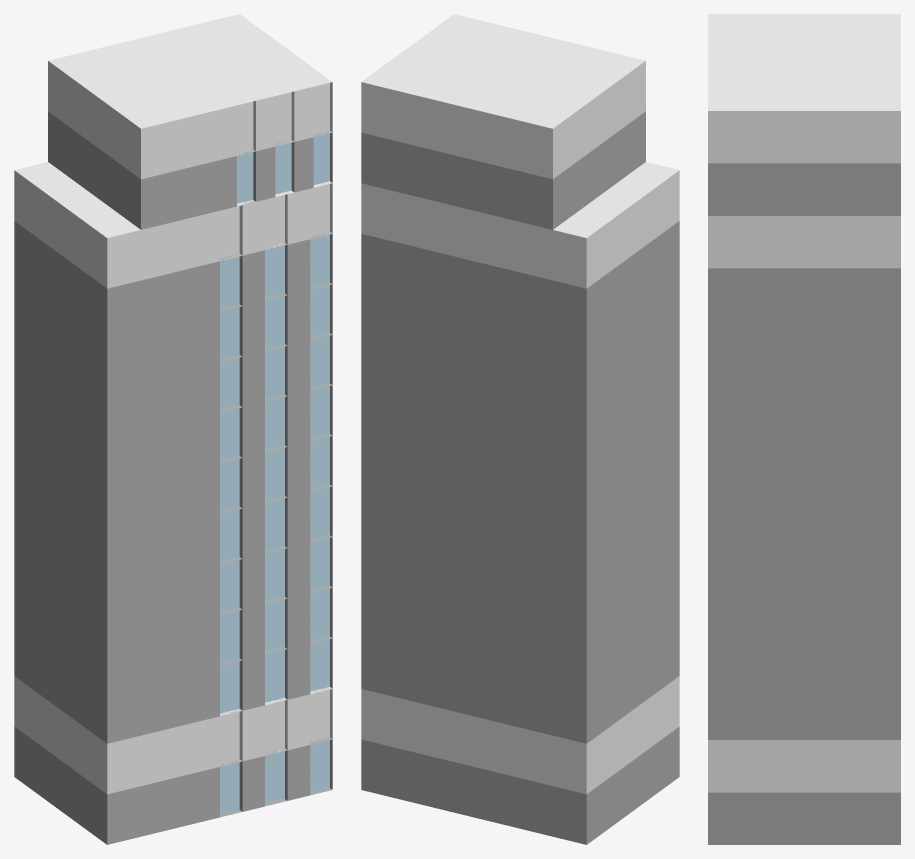
File: building01.glb
The picture shows the model from 3 angles, left to right: view 1: azimuth 30°, elevation 25°; view 2: azimuth 150°, elevation 25°; view 3: azimuth 270°, elevation 25°; orthographic projection. The views are drawn at different scales.
Visible parts, largest first — view 1: floor_5, floor_3.003, floor_1.001, floor_1, floor_1.002, floor_2.003, floor_2.002, floor_2, floor_1.003, floor_3.001, floor_2.001, floor_3.002 (+2 smaller); view 2: floor_5, floor_3.003, floor_1.002, floor_2.003, floor_2.002, floor_3.002, floor_1, floor_2, floor_2.001, floor_1.003, floor_3, floor_1.001 (+2 smaller); view 3: floor_5, floor_1.003, floor_2.003, floor_3.003, floor_4, floor_1.002, floor_2.002, floor_3.002, floor_1, floor_2, floor_3, floor_1.001 (+2 smaller).
Part boxes in pixels (bbox=[...]): floor_5: bbox=[48, 14, 332, 179]; floor_3.003: bbox=[14, 162, 332, 288]; floor_1.001: bbox=[14, 575, 332, 693]; floor_1: bbox=[14, 726, 332, 844]; floor_1.002: bbox=[14, 423, 332, 541]; floor_2.003: bbox=[14, 221, 332, 339]; floor_2.002: bbox=[14, 372, 332, 490]; floor_2: bbox=[14, 676, 332, 794]; floor_1.003: bbox=[14, 271, 332, 389]; floor_3.001: bbox=[14, 474, 332, 591]; floor_2.001: bbox=[14, 524, 332, 642]; floor_3.002: bbox=[14, 322, 332, 440]; floor_5: bbox=[361, 14, 645, 179]; floor_3.003: bbox=[361, 162, 679, 288]; floor_1.002: bbox=[361, 423, 679, 541]; floor_2.003: bbox=[361, 221, 679, 339]; floor_2.002: bbox=[361, 372, 679, 490]; floor_3.002: bbox=[361, 322, 679, 440]; floor_1: bbox=[361, 726, 679, 844]; floor_2: bbox=[361, 676, 679, 794]; floor_2.001: bbox=[361, 524, 679, 642]; floor_1.003: bbox=[361, 271, 679, 389]; floor_3: bbox=[361, 625, 679, 743]; floor_1.001: bbox=[361, 575, 679, 693]; floor_5: bbox=[708, 14, 900, 163]; floor_1.003: bbox=[708, 320, 900, 372]; floor_2.003: bbox=[708, 268, 900, 320]; floor_3.003: bbox=[708, 216, 900, 268]; floor_4: bbox=[708, 163, 900, 215]; floor_1.002: bbox=[708, 478, 900, 530]; floor_2.002: bbox=[708, 425, 900, 477]; floor_3.002: bbox=[708, 373, 900, 425]; floor_1: bbox=[708, 792, 900, 844]; floor_2: bbox=[708, 740, 900, 792]; floor_3: bbox=[708, 687, 900, 739]; floor_1.001: bbox=[708, 635, 900, 687].
Size of the model in its own units: 0.14 by 0.42 by 0.1.
